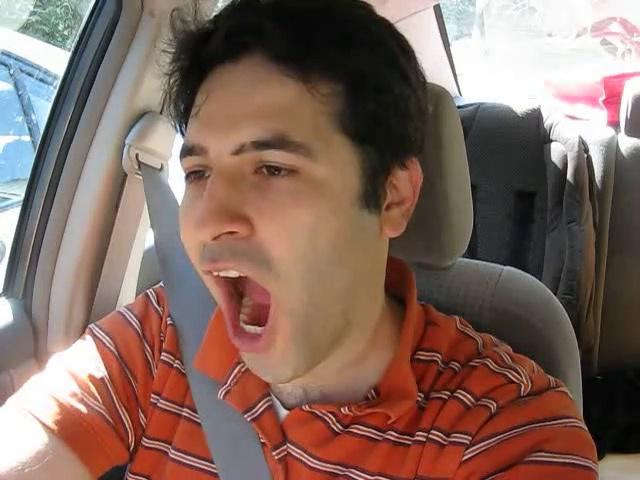open_eyeL: (171, 153, 227, 194)
open_eyeR: (237, 146, 319, 193)
yawn: (186, 256, 298, 354)
